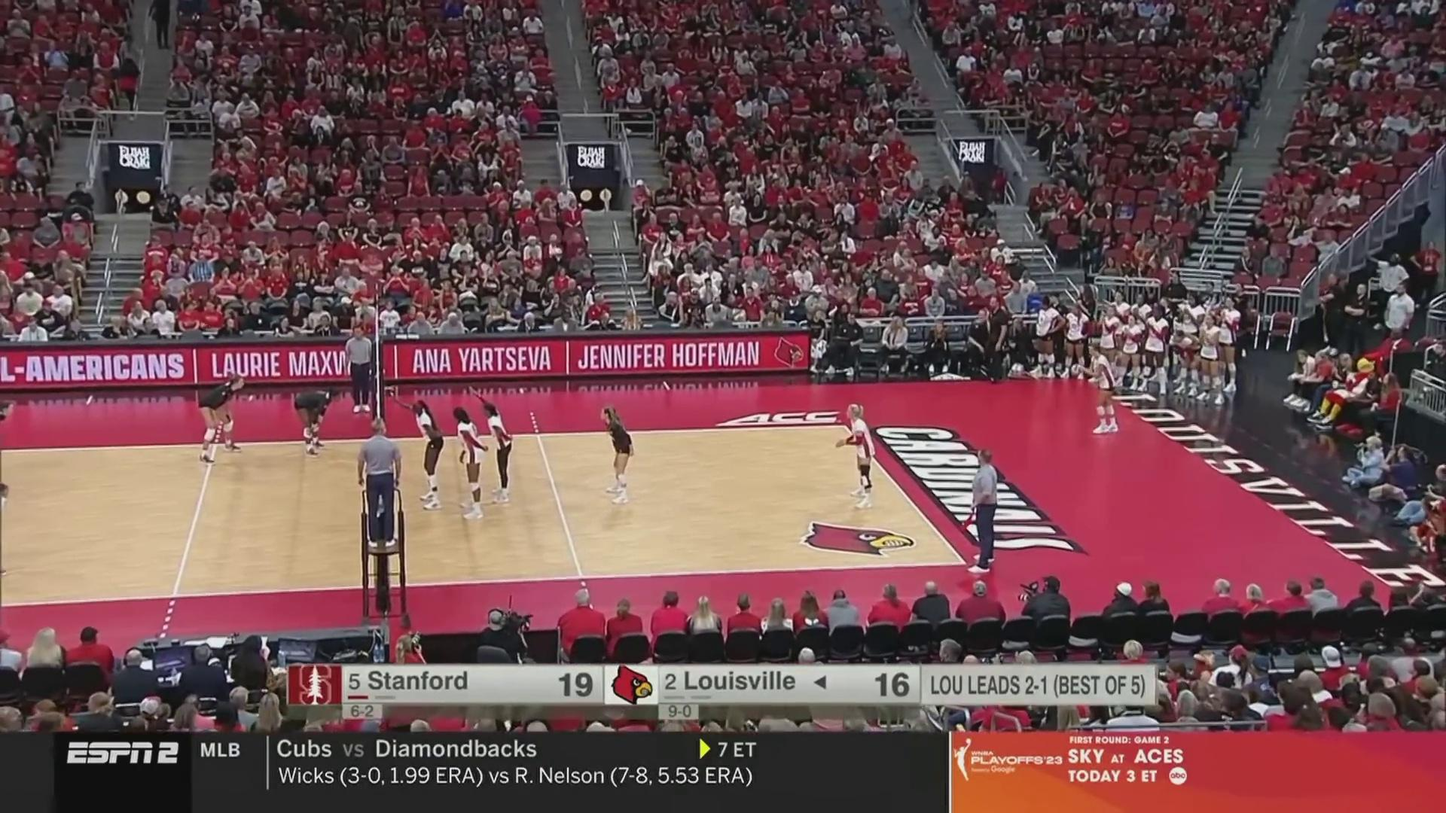player: (405, 398, 445, 512), (837, 401, 874, 512), (200, 375, 246, 462), (291, 386, 344, 458), (455, 405, 486, 520), (481, 398, 514, 504), (602, 407, 636, 503), (1088, 347, 1121, 434)
refree: (354, 423, 405, 556), (967, 450, 998, 572), (342, 325, 374, 413)
